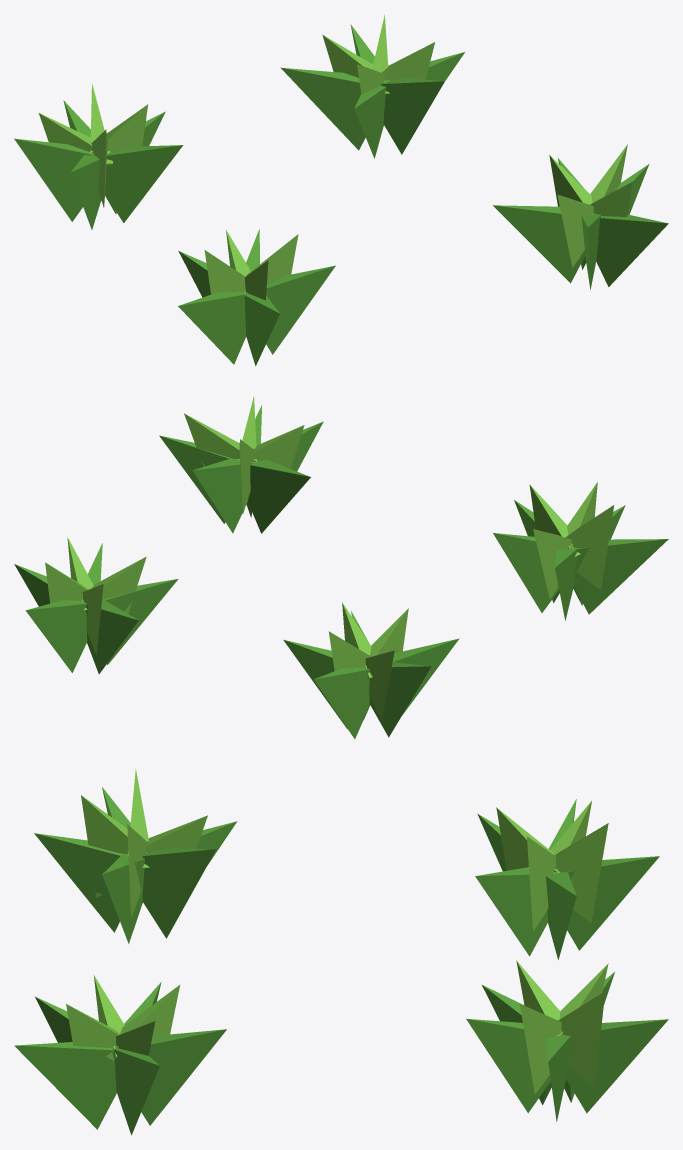
Rendered from lettuce-2.glb.
The picture shows the model from 3 angles, top to bottom: view 1: azimuth 30°, elevation 25°; view 2: azimuth 150°, elevation 25°; view 3: azimuth 270°, elevation 25°; orthographic projection. The views are drawn at different scales.
Parts seen in each view (by area): view 1: lettuce-2; view 2: lettuce-2; view 3: lettuce-2.
Part boxes in pixels (x1=…): lettuce-2: x1=14, y1=14, x2=668, y2=365; lettuce-2: x1=14, y1=396, x2=668, y2=738; lettuce-2: x1=14, y1=768, x2=668, y2=1135.
Size of the model in its own units: 0.6345 by 0.1476 by 0.6201.
1 material, 1 textured.
